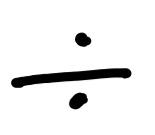div: (12, 32, 130, 110)
